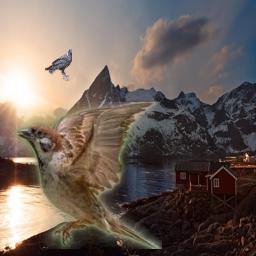Crow: (45, 48, 72, 81)
Sparrow: (15, 102, 162, 249)
